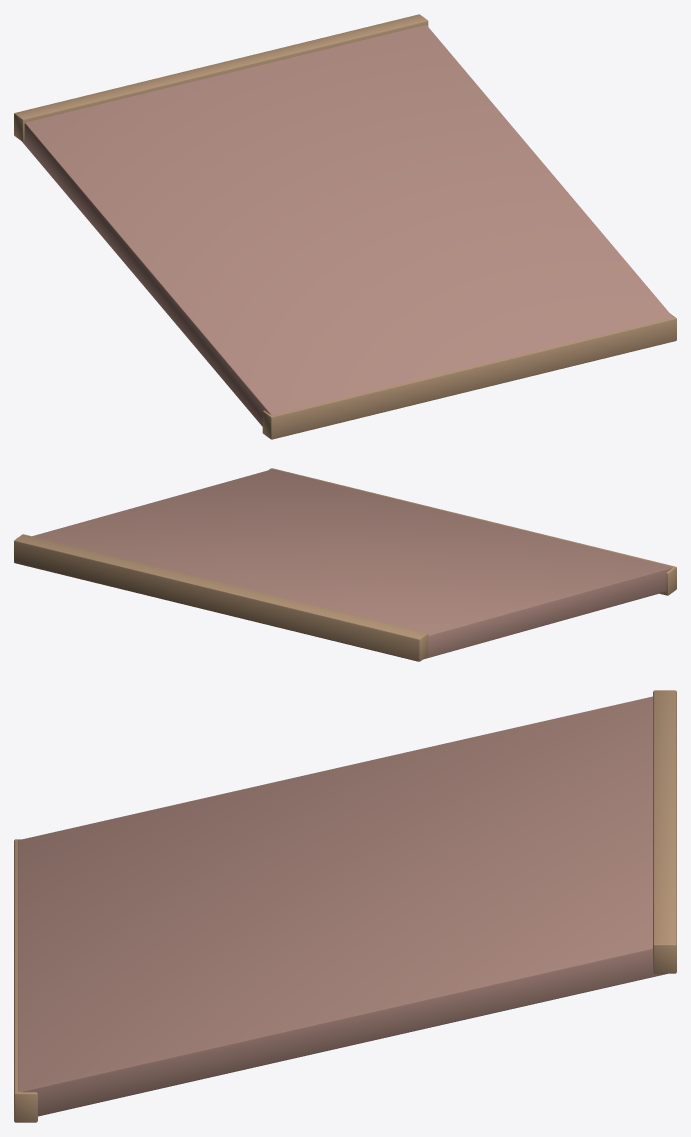
The model's file is th34_dach_pult.glb.
3 renders of one model, top to bottom at view 1: azimuth 30°, elevation 25°; view 2: azimuth 150°, elevation 25°; view 3: azimuth 270°, elevation 25°, orthographic. The views are drawn at different scales.
Parts seen in each view (by area): view 1: Keil, Cube, Cube.001; view 2: Keil, Cube.001, Cube; view 3: Keil, Cube.001, Cube.
Boxes of the visible parts, x1=… form: Keil: x1=22, y1=25, x2=672, y2=426; Cube: x1=262, y1=313, x2=676, y2=439; Cube.001: x1=14, y1=14, x2=428, y2=141; Keil: x1=32, y1=469, x2=672, y2=659; Cube.001: x1=14, y1=534, x2=428, y2=661; Cube: x1=268, y1=468, x2=676, y2=595; Keil: x1=18, y1=696, x2=667, y2=1116; Cube.001: x1=653, y1=690, x2=676, y2=973; Cube: x1=14, y1=839, x2=37, y2=1122.
Bounding box in the file's own units: 4.04 × 1.32 × 4.44.
